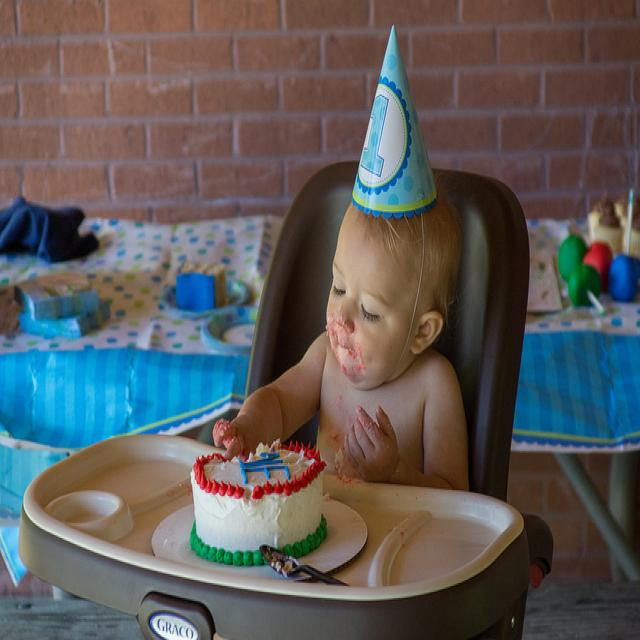chair: (245, 158, 529, 499)
dining table: (1, 184, 640, 443)
